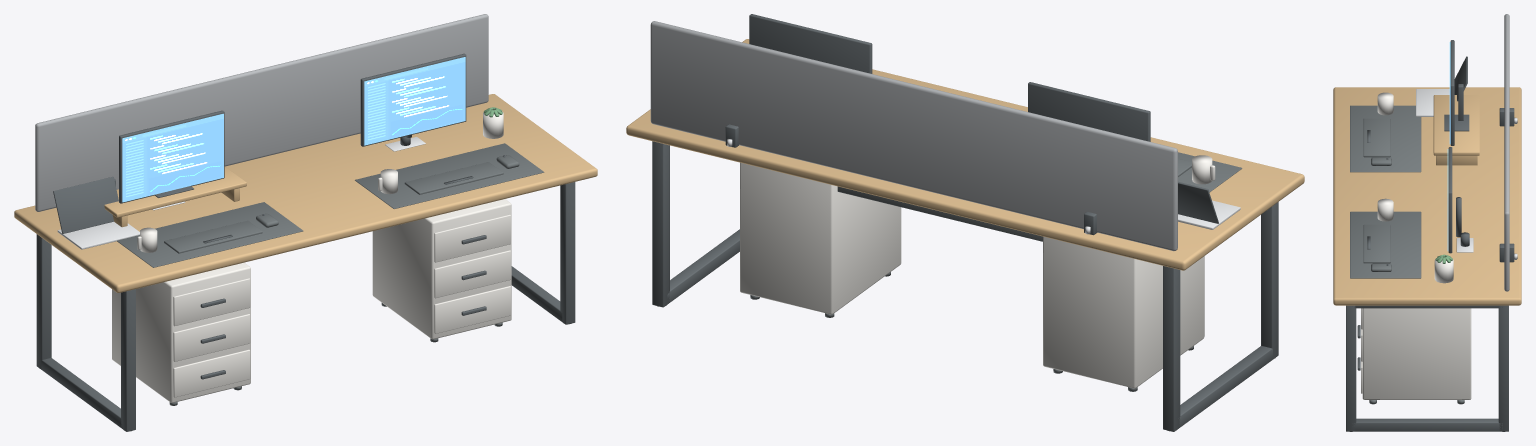
Rendered from workstation.desk-2p-b.glb.
3 renders of one model, left to right at view 1: azimuth 30°, elevation 25°; view 2: azimuth 150°, elevation 25°; view 3: azimuth 270°, elevation 25°, orthographic. The views are drawn at different scales.
Visible parts, largest first — view 1: workstation.desk-2p-b; view 2: workstation.desk-2p-b; view 3: workstation.desk-2p-b.
Part boxes in pixels (x1=…): workstation.desk-2p-b: x1=14, y1=14, x2=597, y2=431; workstation.desk-2p-b: x1=626, y1=14, x2=1304, y2=431; workstation.desk-2p-b: x1=1333, y1=14, x2=1521, y2=431.
Size of the model in its own units: 2.4 by 1.16 by 0.9.
Materials: 9 (1 with a texture image).
